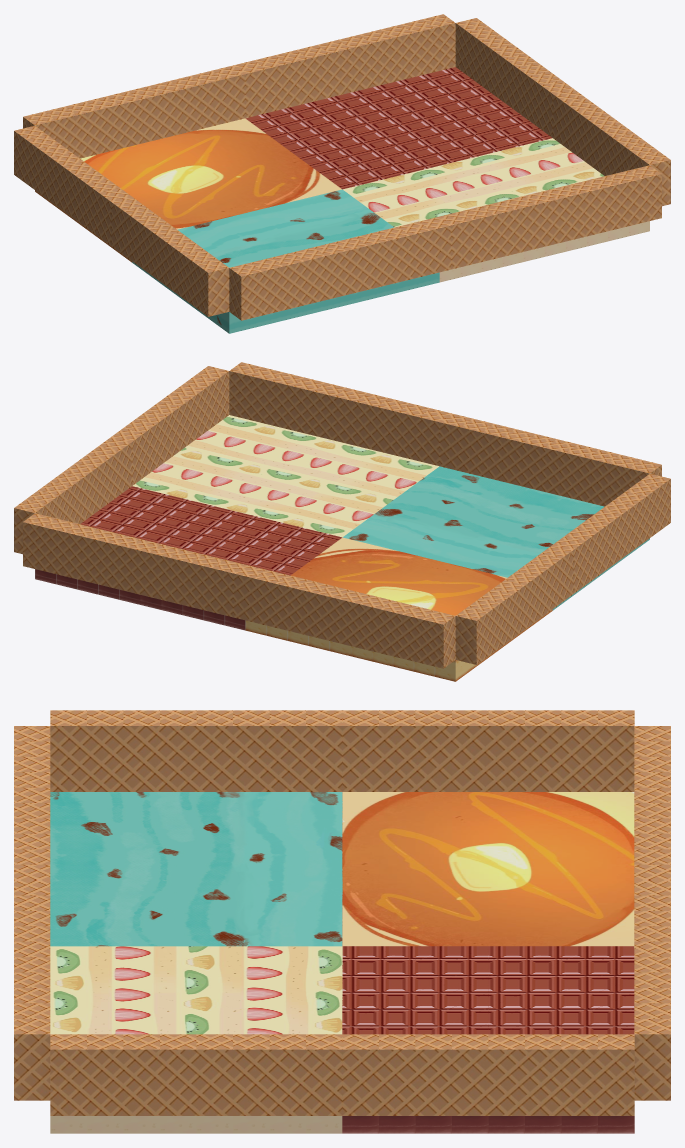
Rendered from field.fbx.
3 renders of one model, top to bottom at view 1: azimuth 30°, elevation 25°; view 2: azimuth 150°, elevation 25°; view 3: azimuth 270°, elevation 25°, orthographic. The views are drawn at different scales.
Parts seen in each view (by area): view 1: pCube94 (×4), pCube98 (×4), pCube97 (×4), pCube89 (×4), pCube91 (×4), pCube100 (×4), pCube88 (×4), pCube86 (×4), pCube87 (×4), pCube90 (×4), pCube83 (×4), pCube99 (×4) (+9 smaller); view 2: pCube83 (×4), pCube88 (×4), pCube87 (×4), pCube99 (×4), pCube90 (×4), pCube86 (×4), pCube98 (×4), pCube91 (×4), pCube97 (×4), pCube100 (×4), pCube94 (×4), pCube89 (×4) (+9 smaller); view 3: pCube88 (×3), pCube100 (×3), pCube86 (×3), pCube98 (×3), pCube87 (×2), pCube90 (×2), pCube91 (×2), pCube89 (×2), pCube83 (×2), pCube84 (×2), pCube85 (×2), pCube93 (×2) (+14 smaller).
Part boxes in pixels (x1=…): pCube94 (×4): x1=65, y1=18, x2=619, y2=316; pCube98 (×4): x1=74, y1=50, x2=609, y2=284; pCube97 (×4): x1=62, y1=45, x2=621, y2=289; pCube89 (×4): x1=123, y1=70, x2=560, y2=263; pCube91 (×4): x1=111, y1=65, x2=573, y2=269; pCube100 (×4): x1=50, y1=40, x2=634, y2=294; pCube88 (×4): x1=135, y1=62, x2=549, y2=272; pCube86 (×4): x1=128, y1=44, x2=556, y2=289; pCube87 (×4): x1=147, y1=53, x2=536, y2=280; pCube90 (×4): x1=99, y1=60, x2=585, y2=274; pCube83 (×4): x1=14, y1=24, x2=670, y2=310; pCube99 (×4): x1=87, y1=55, x2=597, y2=279; pCube83 (×4): x1=65, y1=366, x2=619, y2=664; pCube88 (×4): x1=75, y1=398, x2=610, y2=632; pCube87 (×4): x1=63, y1=393, x2=622, y2=637; pCube99 (×4): x1=124, y1=418, x2=561, y2=611; pCube90 (×4): x1=111, y1=413, x2=573, y2=617; pCube86 (×4): x1=50, y1=388, x2=634, y2=642; pCube98 (×4): x1=135, y1=410, x2=549, y2=620; pCube91 (×4): x1=99, y1=408, x2=585, y2=622; pCube97 (×4): x1=148, y1=401, x2=537, y2=628; pCube100 (×4): x1=128, y1=392, x2=556, y2=637; pCube94 (×4): x1=14, y1=372, x2=670, y2=658; pCube89 (×4): x1=87, y1=403, x2=597, y2=627; pCube88 (×3): x1=233, y1=710, x2=670, y2=1115; pCube100 (×3): x1=160, y1=710, x2=670, y2=1115; pCube86 (×3): x1=14, y1=710, x2=524, y2=1115; pCube98 (×3): x1=14, y1=710, x2=451, y2=1115; pCube87 (×2): x1=196, y1=710, x2=488, y2=1115; pCube90 (×2): x1=306, y1=710, x2=378, y2=1115; pCube91 (×2): x1=306, y1=710, x2=378, y2=1115; pCube89 (×2): x1=269, y1=710, x2=415, y2=1115; pCube83 (×2): x1=50, y1=710, x2=634, y2=1115; pCube84 (×2): x1=87, y1=710, x2=597, y2=1115; pCube85 (×2): x1=123, y1=710, x2=561, y2=1115; pCube93 (×2): x1=87, y1=710, x2=597, y2=1115.
Bounding box in the file's own units: 2306 × 314 × 1886.
